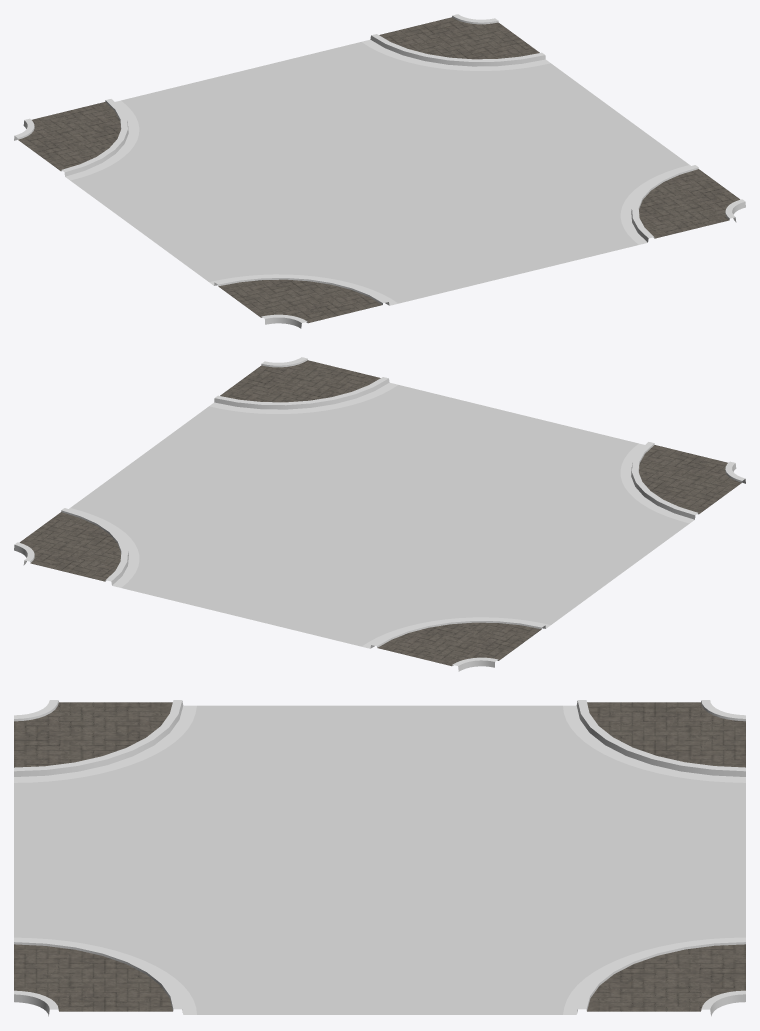
Rendered from Road5.fbx.
3 renders of one model, top to bottom at view 1: azimuth 30°, elevation 25°; view 2: azimuth 150°, elevation 25°; view 3: azimuth 270°, elevation 25°, orthographic. The views are drawn at different scales.
Parts seen in each view (by area): view 1: polySurface63; view 2: polySurface63; view 3: polySurface63.
Part boxes in pixels (box(x1,y1,x2,y2)): polySurface63: box(14, 14, 745, 328); polySurface63: box(14, 357, 745, 671); polySurface63: box(14, 700, 745, 1016).
Size of the model in its own units: 8 by 0.0888 by 8.
